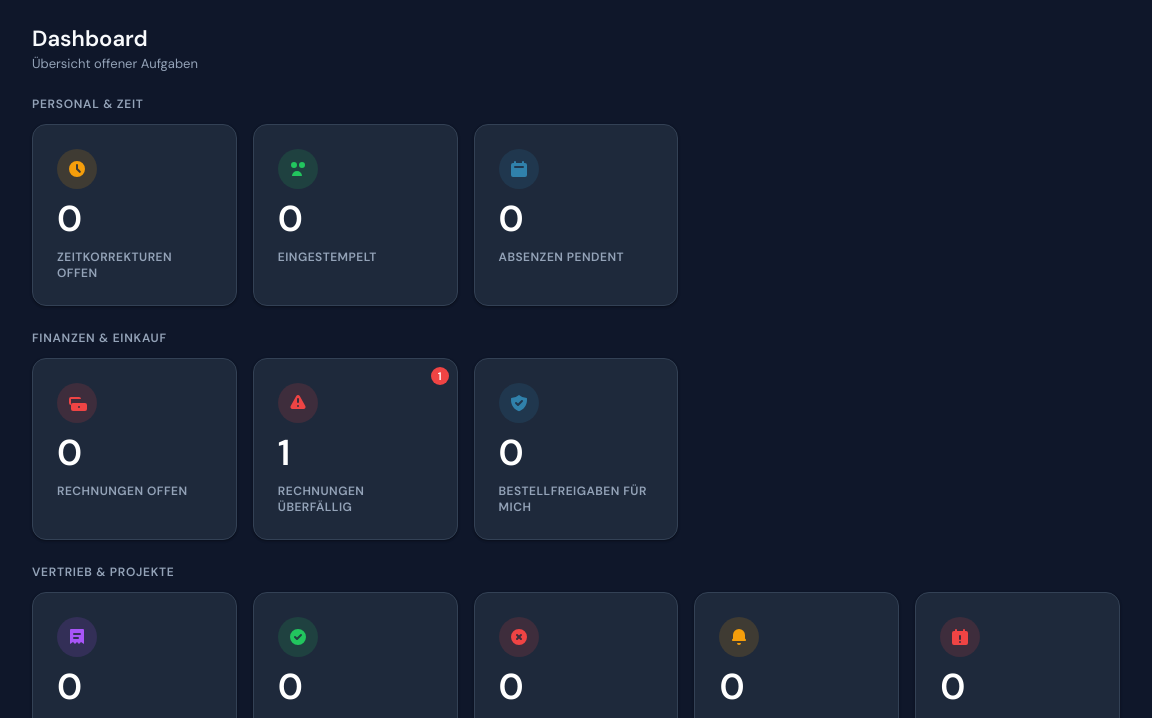
Test: Mahnung als Brief › verlinkt je Stufe das Brief-PDF
The image size is (1152, 718).
What coordinates should you click on to do the following:
click the text "Rechnungen überfällig"
I would click on:
 (321, 499)
Its box is left=278, top=483, right=364, bottom=515.
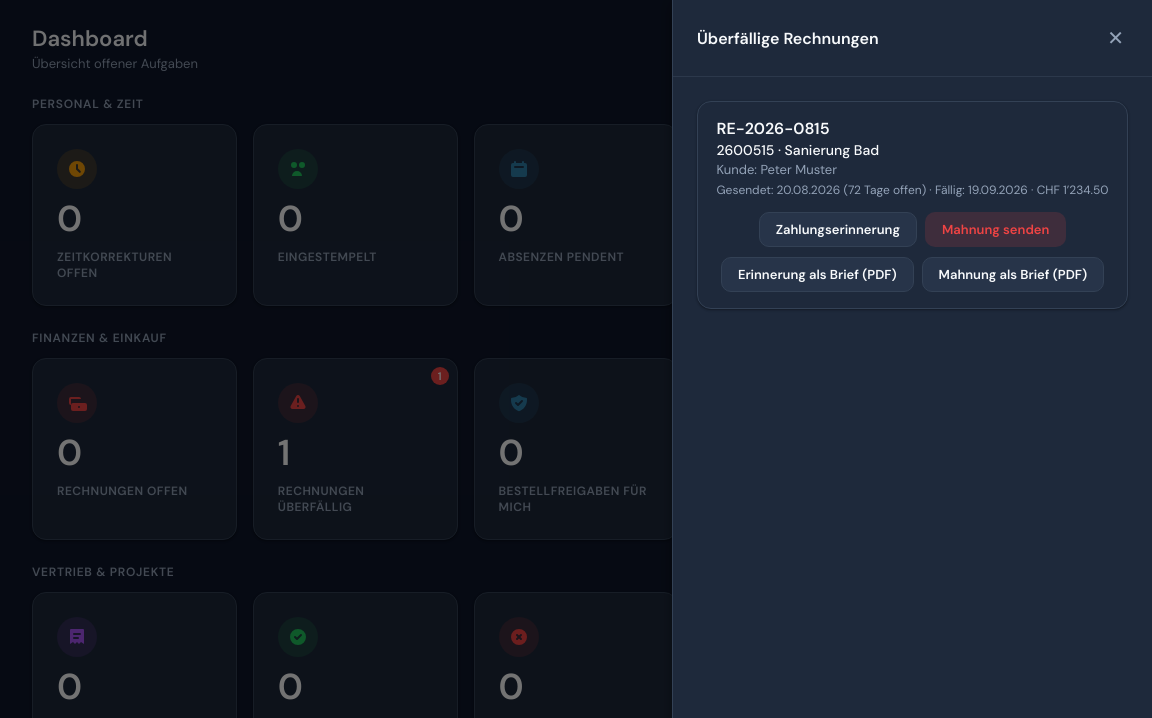
Result: the text "RE-2026-0815" is shown at left=716, top=118, right=830, bottom=139
